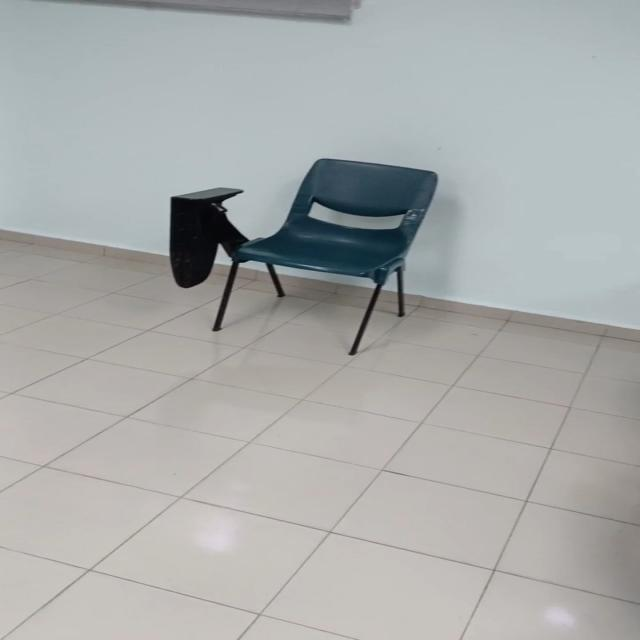sandalye: (212, 158, 437, 356)
